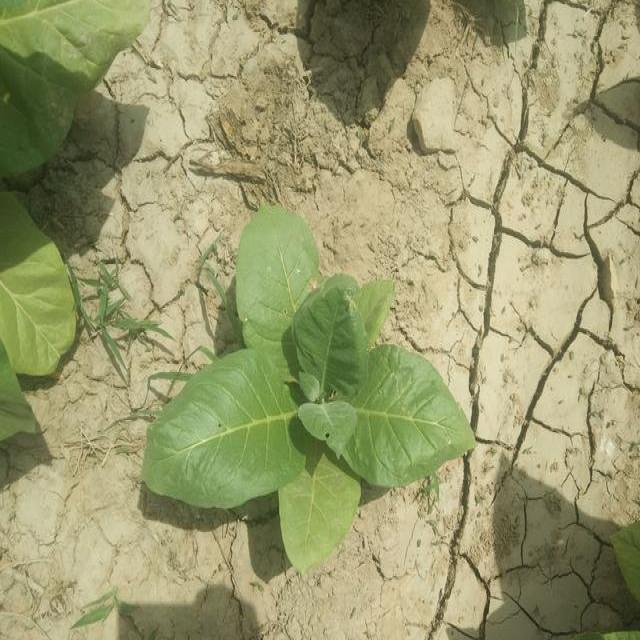crop: (157, 196, 470, 556), (0, 0, 160, 164), (2, 180, 78, 425)
